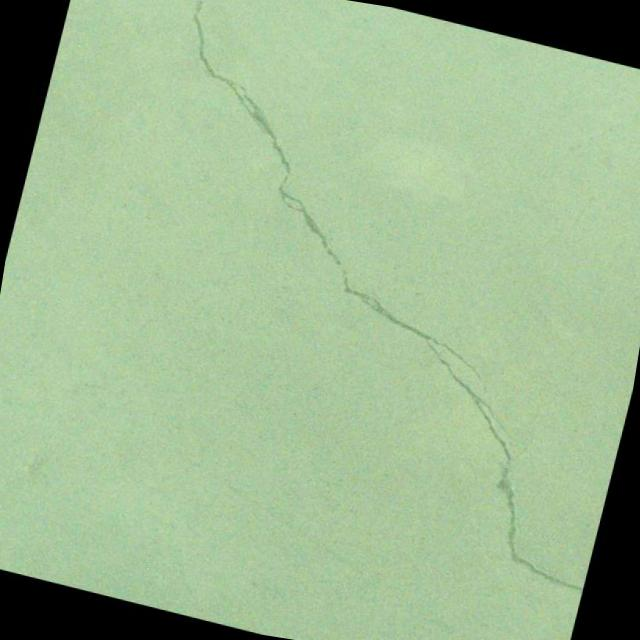crack: (47, 0, 640, 597)
